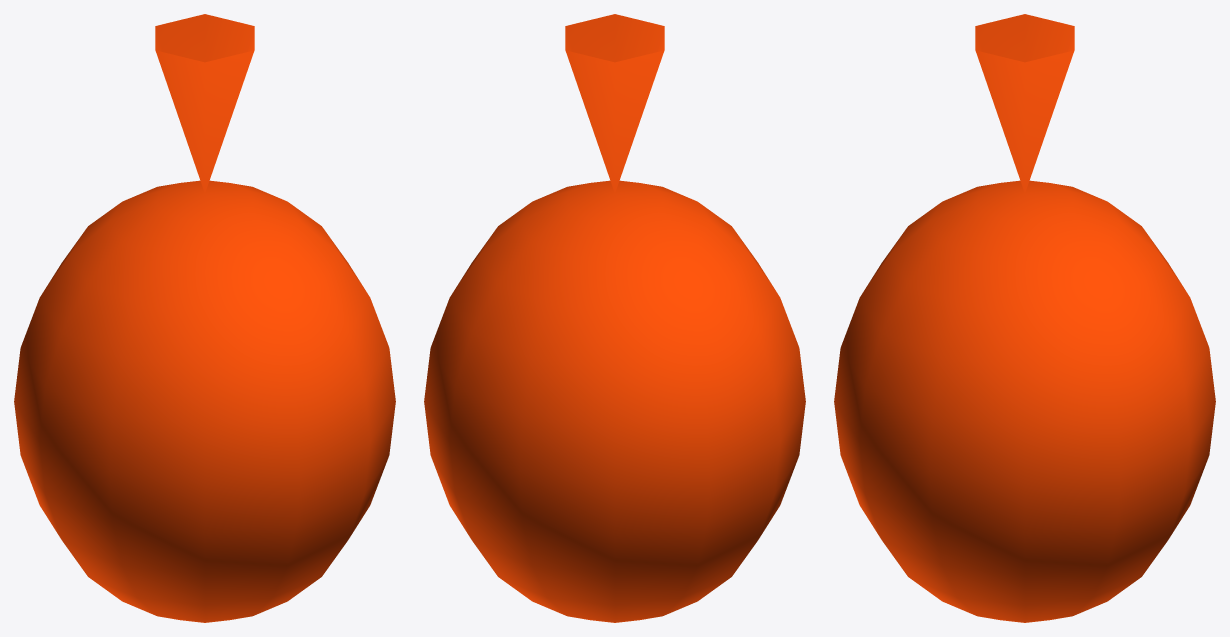
The model's file is Magmarau_stage2.obj.
The picture shows the model from 3 angles, left to right: view 1: azimuth 30°, elevation 25°; view 2: azimuth 150°, elevation 25°; view 3: azimuth 270°, elevation 25°; orthographic projection.
Size of the model in its own units: 2 by 3.3 by 2.
